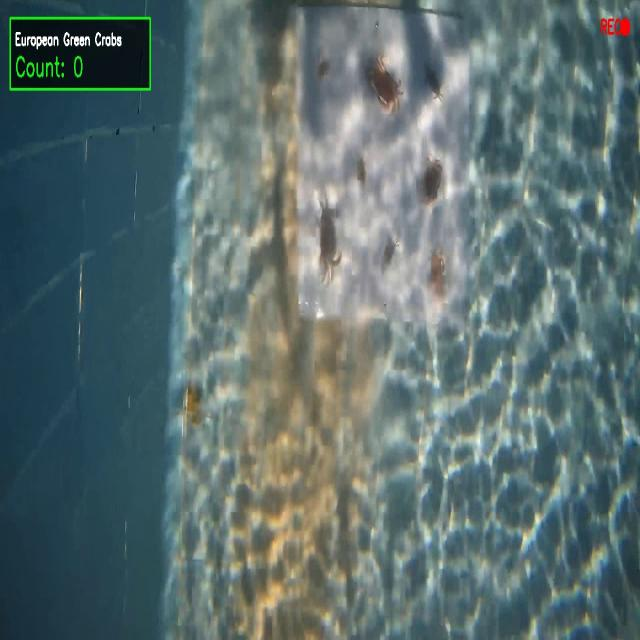European_Green_Crab: (316, 195, 342, 290), (422, 56, 446, 106), (379, 232, 400, 278)
